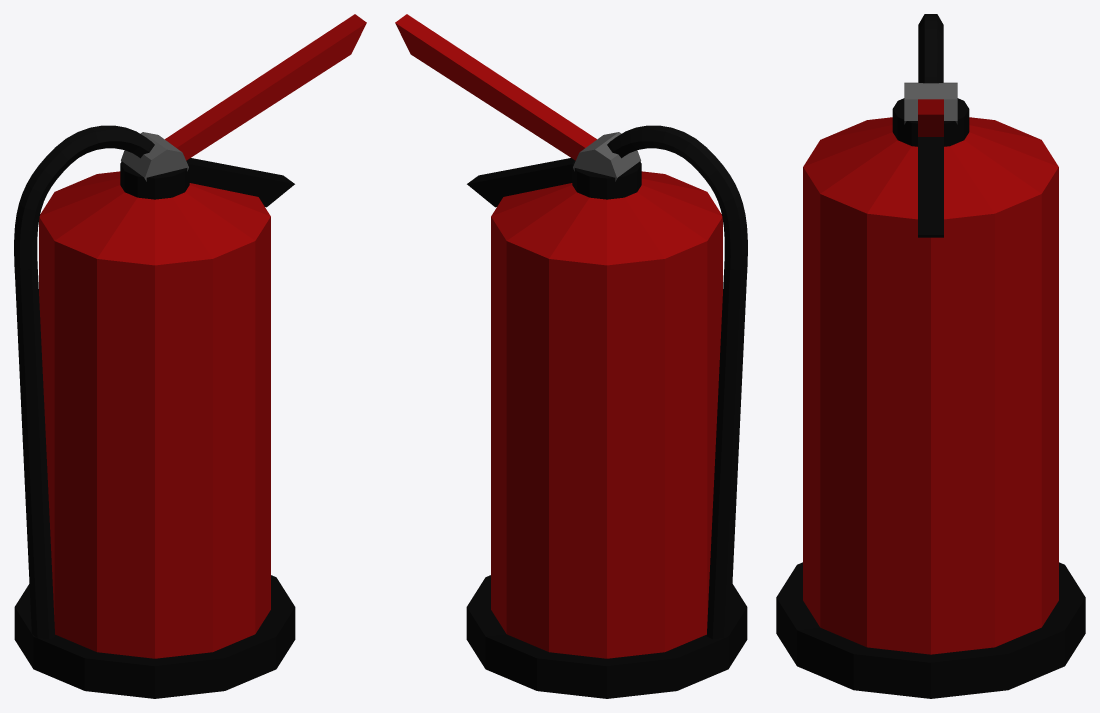
Rendered from firehydrant (2).glb.
The picture shows the model from 3 angles, left to right: view 1: azimuth 30°, elevation 25°; view 2: azimuth 150°, elevation 25°; view 3: azimuth 270°, elevation 25°; orthographic projection. The views are drawn at different scales.
Parts seen in each view (by area): view 1: Cylinder, BézierCurve, Cylinder.001; view 2: Cylinder, BézierCurve, Cylinder.001; view 3: Cylinder, Cylinder.001, BézierCurve.
Part boxes in pixels (x1=…): Cylinder: x1=14, y1=160, x2=295, y2=698; BézierCurve: x1=14, y1=125, x2=154, y2=639; Cylinder.001: x1=121, y1=14, x2=366, y2=207; Cylinder: x1=466, y1=160, x2=747, y2=698; BézierCurve: x1=607, y1=125, x2=747, y2=639; Cylinder.001: x1=395, y1=14, x2=640, y2=207; Cylinder: x1=776, y1=98, x2=1085, y2=698; Cylinder.001: x1=904, y1=82, x2=957, y2=237; BézierCurve: x1=918, y1=14, x2=943, y2=83.
Bounding box in the file's own units: 3.43 × 5.43 × 2.42.
